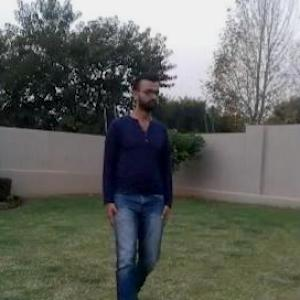follow: (95, 47, 184, 299)
